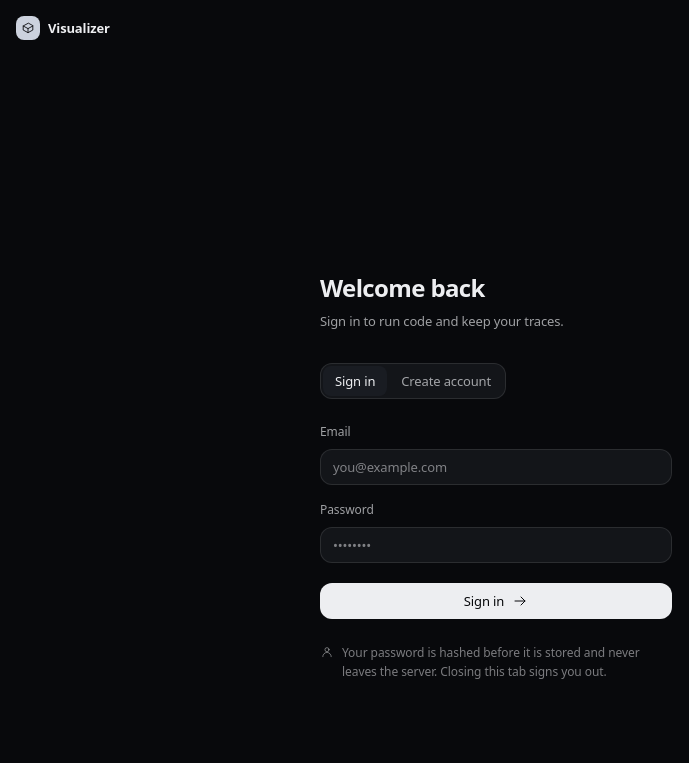
it: sign in › rejects a too-short password before the server has to
Click the button "Create account" at (446, 381), box [389,366,503,396]
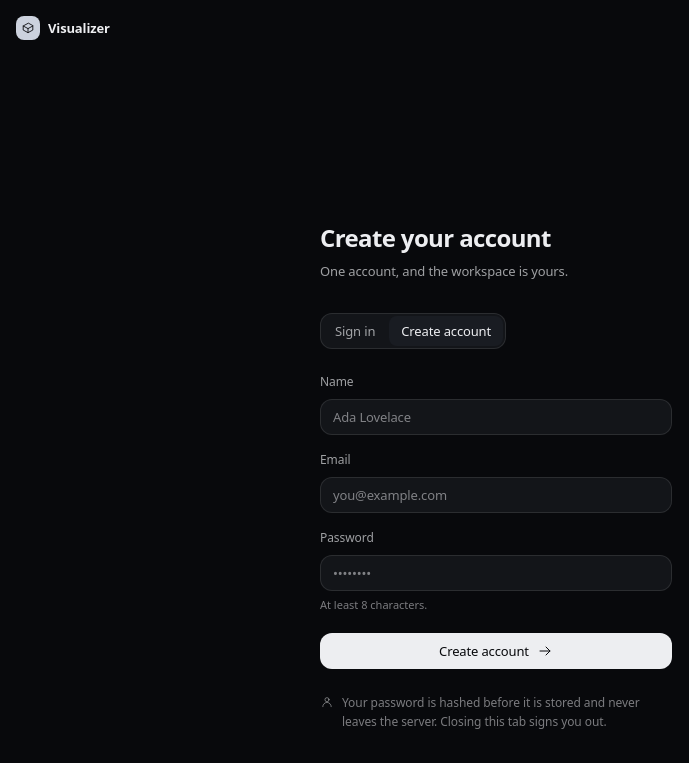
Type "Ada" into the field labelled "Name" at (496, 417), box [320,399,672,435]
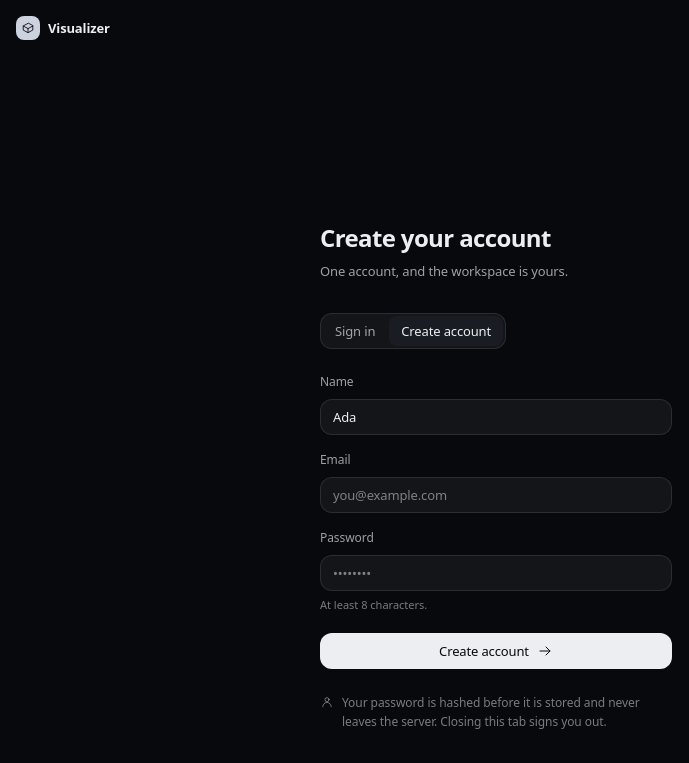
Type "ada@example.com" into the field labelled "Email" at (496, 495), box [320,477,672,513]
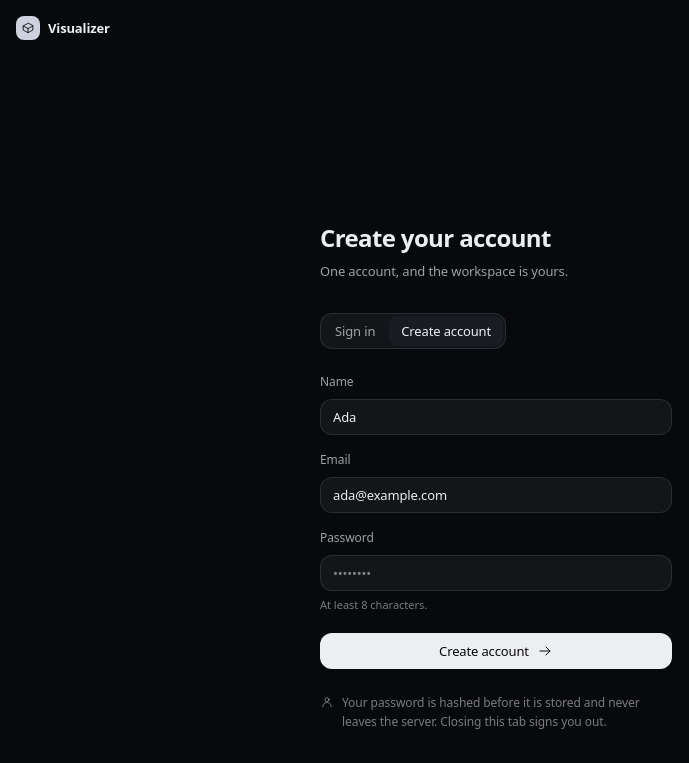
Type "short" into the password field labelled "Password" at (496, 573), box [320,555,672,591]
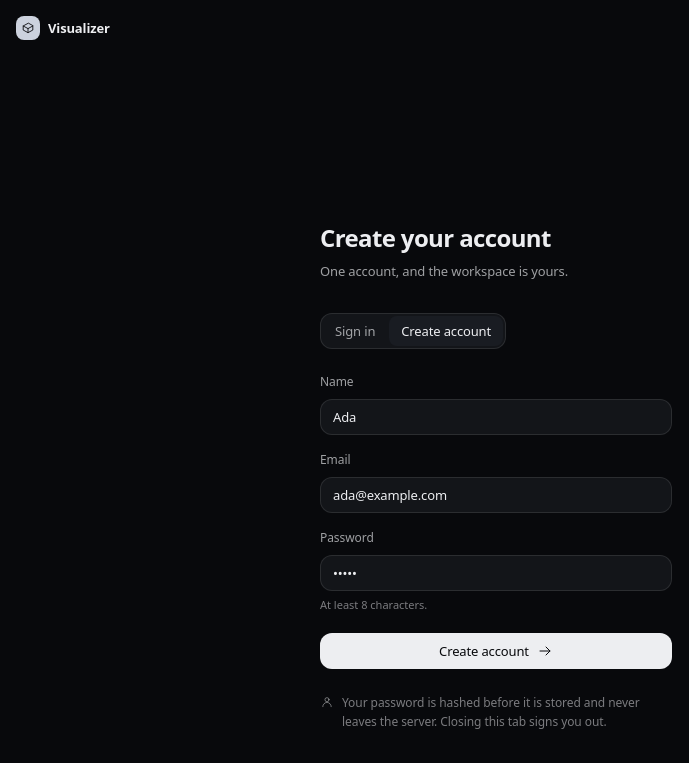
Click the button "Create account" below "At least 8 characters." at (496, 651), box [320,633,672,669]
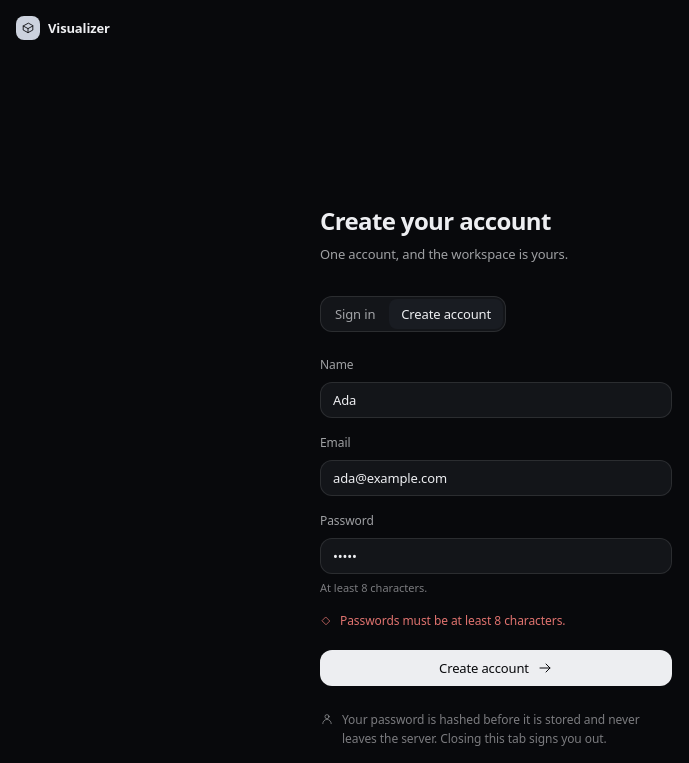
Check: the message shows "at least 8 characters", box [340,612,566,629]
